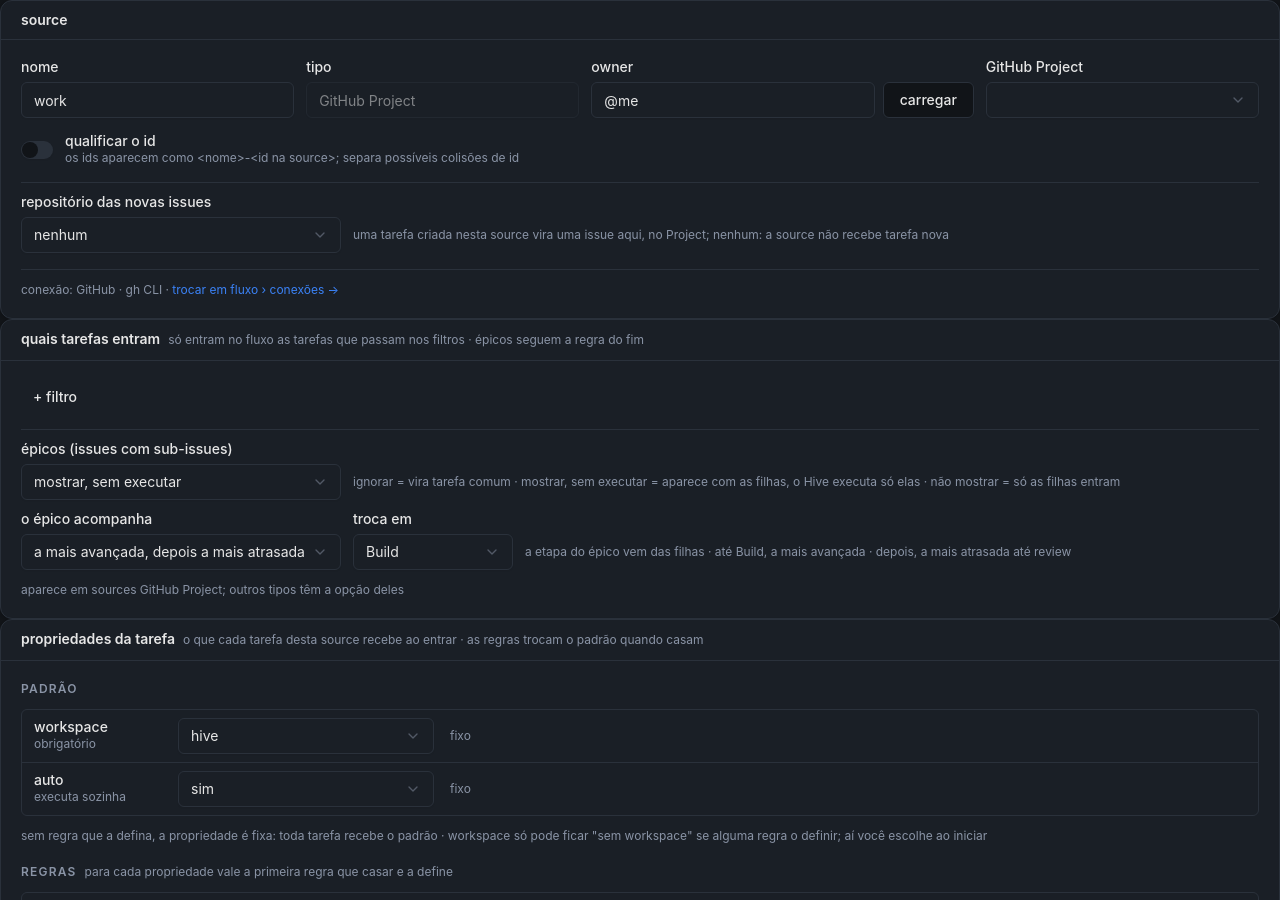
Test: the epics block: the mode with its hint, then the epic follows and switches at, both on the default, and the note at the end (#30)
Expected: the text "ignorar = vira tarefa comum · mostrar, sem executar = aparece com as filhas, o Hive executa só elas · não mostrar = só a" is shown, [353,474,1120,489]
Expected: the dropdown named "troca em" reads "Build", [353,534,513,570]
Step 1. Click the dropdown named "o épico acompanha" → (181, 552), box [21,534,341,570]
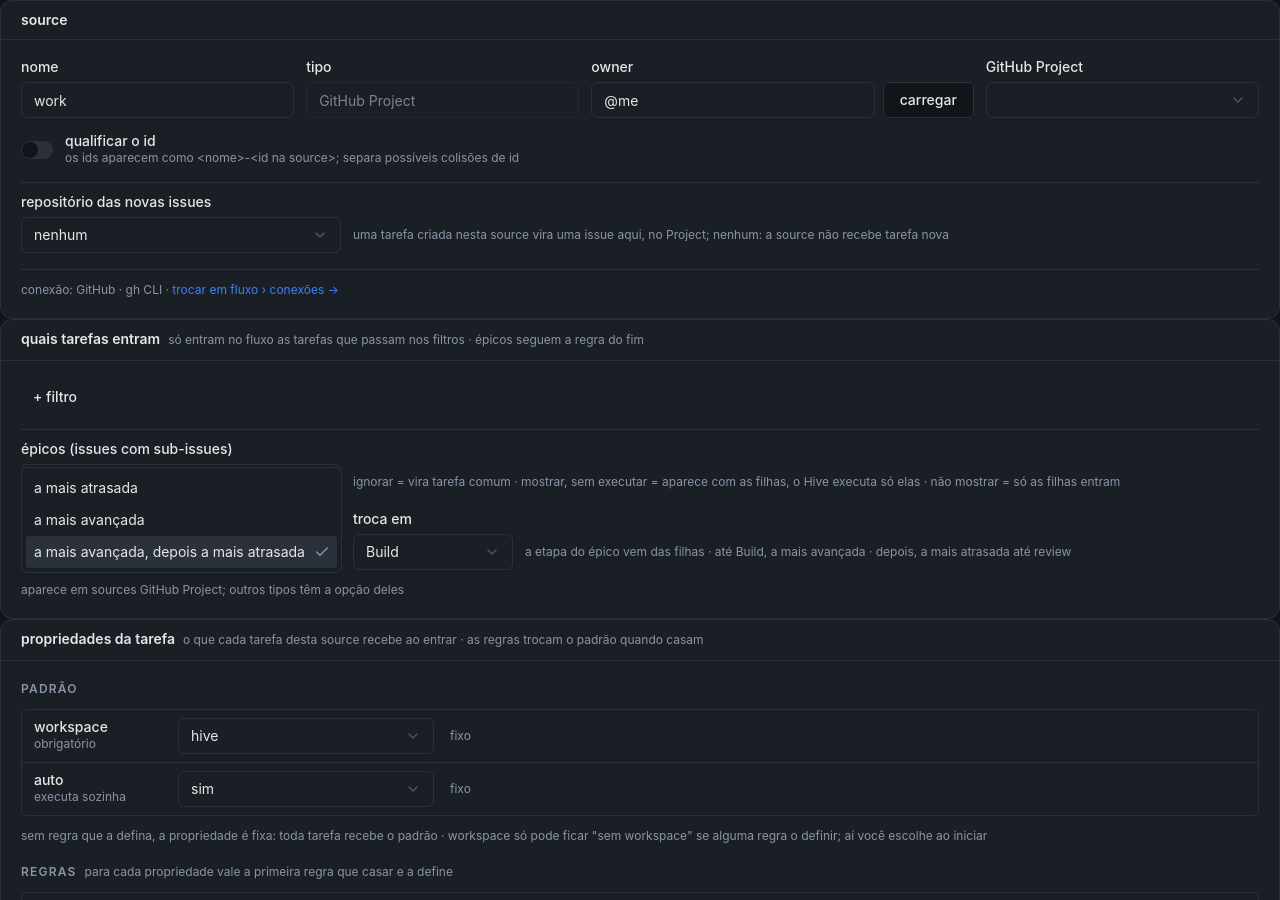
Result: the option "a mais atrasada" is shown at [34,479,138,496]
Result: the option "a mais avançada" is shown at [34,511,145,528]
Result: the option "a mais avançada, depois a mais atrasada" is shown at [26,536,337,568]
